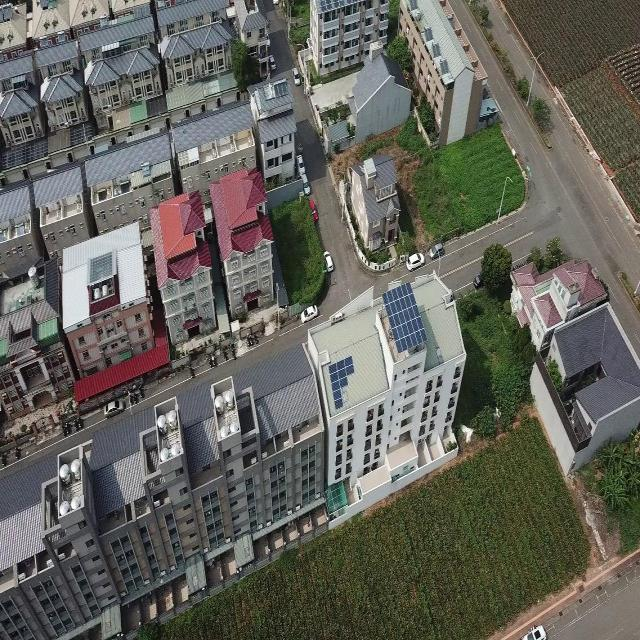car: (102, 395, 132, 423), (406, 251, 425, 271), (301, 304, 318, 324), (428, 242, 445, 260), (308, 197, 318, 222), (323, 250, 334, 272), (296, 154, 305, 175), (292, 67, 301, 85), (268, 54, 276, 70)
